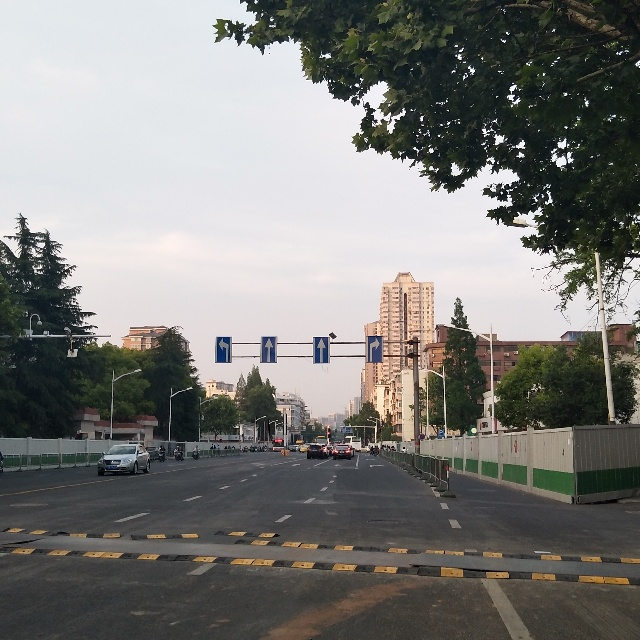left: (215, 336, 232, 363)
right: (365, 336, 383, 363)
straight: (260, 336, 277, 363), (313, 337, 330, 363)
